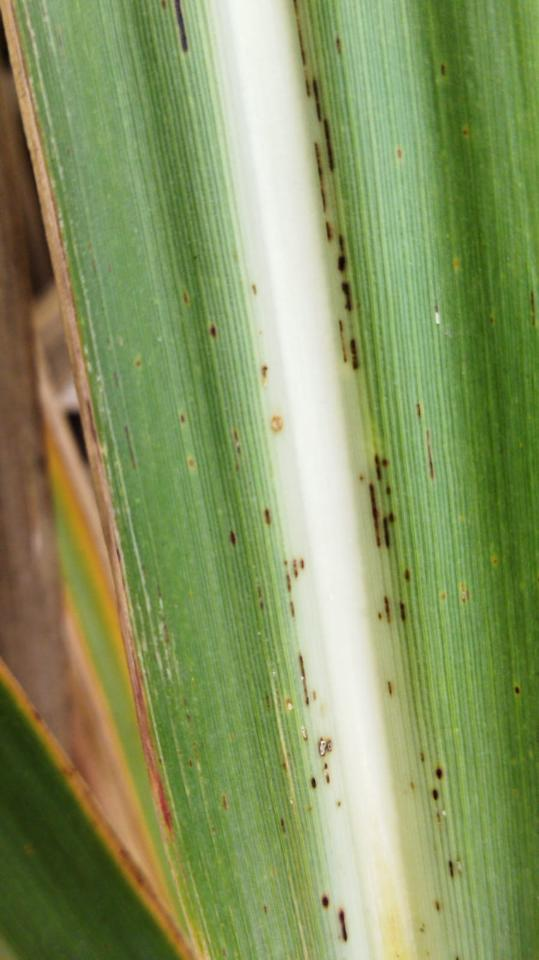Rust: (289, 0, 369, 376), (360, 448, 405, 553), (414, 400, 440, 485), (280, 555, 308, 623), (319, 889, 351, 947), (304, 735, 335, 793), (168, 0, 196, 57), (372, 590, 411, 628), (295, 652, 312, 708), (428, 764, 447, 802), (230, 426, 243, 478), (268, 411, 285, 438), (259, 503, 273, 531), (442, 857, 457, 882), (225, 528, 241, 550), (259, 360, 272, 387), (207, 321, 220, 342), (401, 567, 414, 585), (335, 38, 345, 60), (386, 678, 396, 699), (279, 815, 289, 836), (438, 63, 449, 82), (432, 900, 443, 916), (419, 753, 428, 768)
